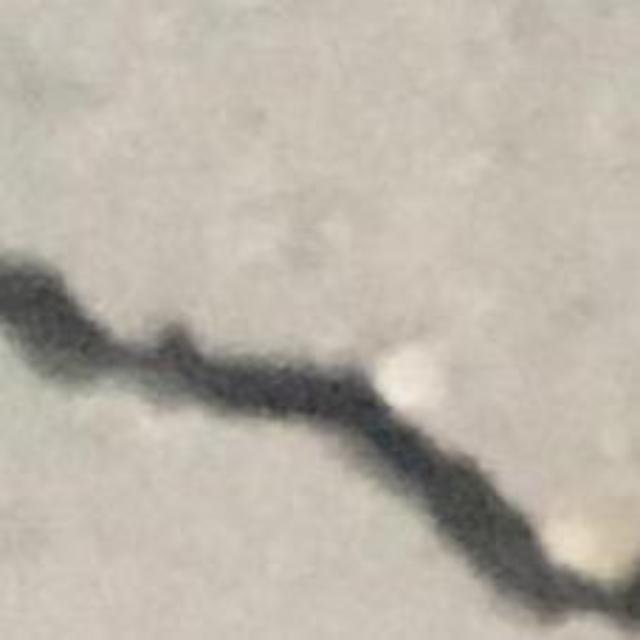crack: (0, 263, 639, 631)
